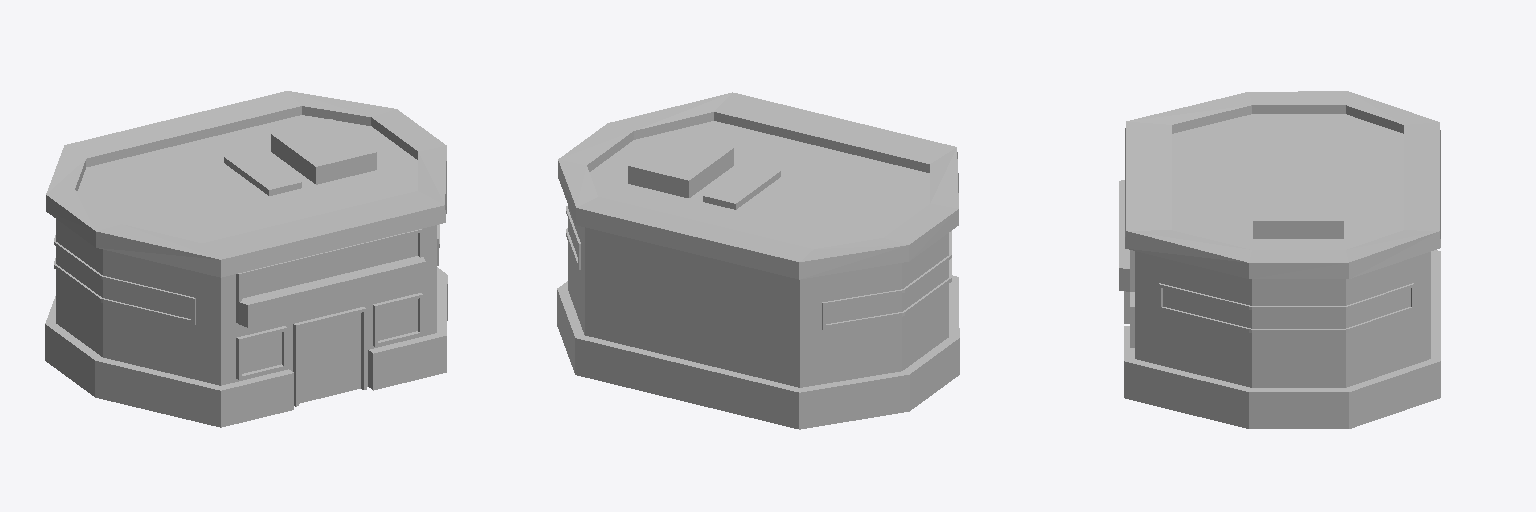
Rendered from casa4.OBJ.
3 renders of one model, left to right at view 1: azimuth 30°, elevation 25°; view 2: azimuth 150°, elevation 25°; view 3: azimuth 270°, elevation 25°, orthographic.
Parts seen in each view (by area): view 1: Group59396, Group2334, Group44322, Group7306, Group37549, Group54971, Group18242, Group19565, Group31876, Group12215; view 2: Group59396, Group53238, Group2334, Group44322, Group7306, Group54971, Group37549, Group19565; view 3: Group7306, Group59396, Group2334, Group44322, Group54971, Group37549, Group19565, Group18242.
Boxes of the visible parts, <box> form: Group59396: <box>46,91,446,277</box>; Group2334: <box>77,115,417,242</box>; Group44322: <box>45,267,447,427</box>; Group7306: <box>56,219,220,385</box>; Group37549: <box>56,234,417,373</box>; Group54971: <box>224,119,376,195</box>; Group18242: <box>236,256,425,327</box>; Group19565: <box>54,224,439,406</box>; Group31876: <box>221,225,436,386</box>; Group12215: <box>299,313,360,403</box>; Group59396: <box>558,92,958,279</box>; Group53238: <box>585,227,799,387</box>; Group2334: <box>589,121,929,248</box>; Group44322: <box>557,275,959,429</box>; Group7306: <box>568,206,948,387</box>; Group54971: <box>628,133,780,209</box>; Group37549: <box>568,219,948,323</box>; Group19565: <box>566,206,951,370</box>; Group7306: <box>1135,251,1430,387</box>; Group59396: <box>1125,91,1440,278</box>; Group2334: <box>1172,114,1403,249</box>; Group44322: <box>1124,250,1440,428</box>; Group54971: <box>1253,180,1343,238</box>; Group37549: <box>1163,288,1410,328</box>; Group19565: <box>1130,250,1414,347</box>; Group18242: <box>1119,180,1134,291</box>.
Size of the model in its own units: 0.5612 by 0.2658 by 0.4451.